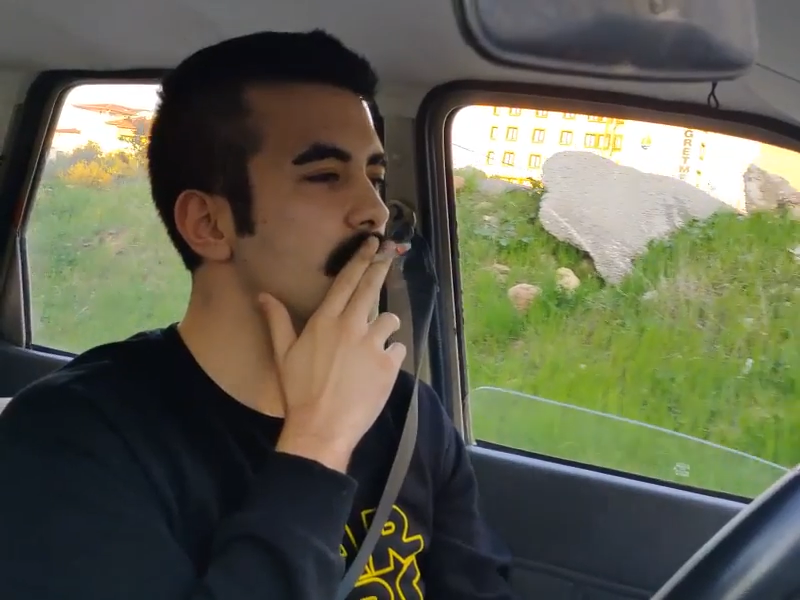sigara: (363, 235, 418, 268)
